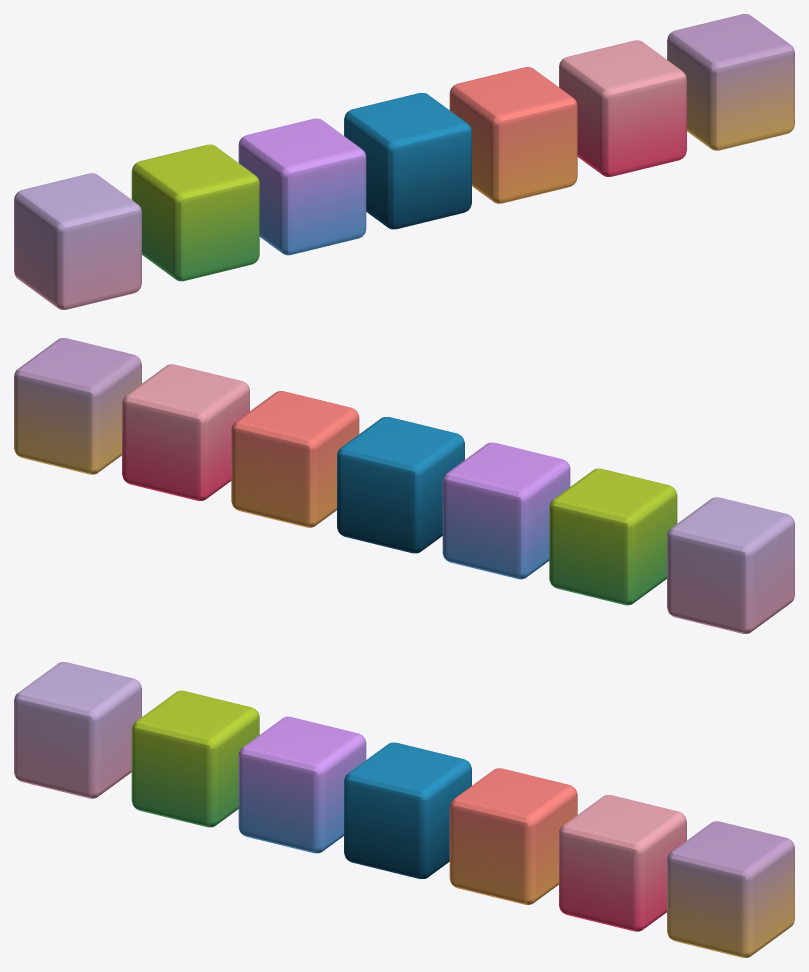
File: küpengel.fbx
3 views of the same model, one above another, from view 1: azimuth 30°, elevation 25°; view 2: azimuth 150°, elevation 25°; view 3: azimuth 330°, elevation 25° (orthographic).
Parts seen in each view (by area): view 1: pCube5, pCube10, pCube7, pCube6, pCube9, pCube2, pCube8; view 2: pCube5, pCube10, pCube7, pCube6, pCube9, pCube2, pCube8; view 3: pCube6, pCube5, pCube2, pCube7, pCube10, pCube9, pCube8.
Part boxes in pixels (x1,y1,x2,y2): pCube5: (14, 173, 141, 309); pCube10: (131, 144, 259, 281); pCube7: (559, 40, 686, 176); pCube6: (667, 14, 794, 150); pCube9: (238, 118, 366, 255); pCube2: (449, 67, 577, 203); pCube8: (344, 93, 471, 229); pCube5: (667, 497, 794, 633); pCube10: (549, 468, 677, 605); pCube7: (122, 364, 249, 500); pCube6: (14, 338, 141, 474); pCube9: (442, 442, 570, 579); pCube2: (231, 391, 359, 527); pCube8: (337, 417, 464, 553); pCube6: (667, 821, 794, 957); pCube5: (14, 662, 141, 798); pCube2: (449, 768, 577, 904); pCube7: (559, 795, 686, 931); pCube10: (131, 690, 259, 827); pCube9: (238, 716, 366, 853); pCube8: (344, 742, 471, 878).
Size of the model in its own units: 776 by 90 by 90.
Materials: 1 (1 with a texture image).
